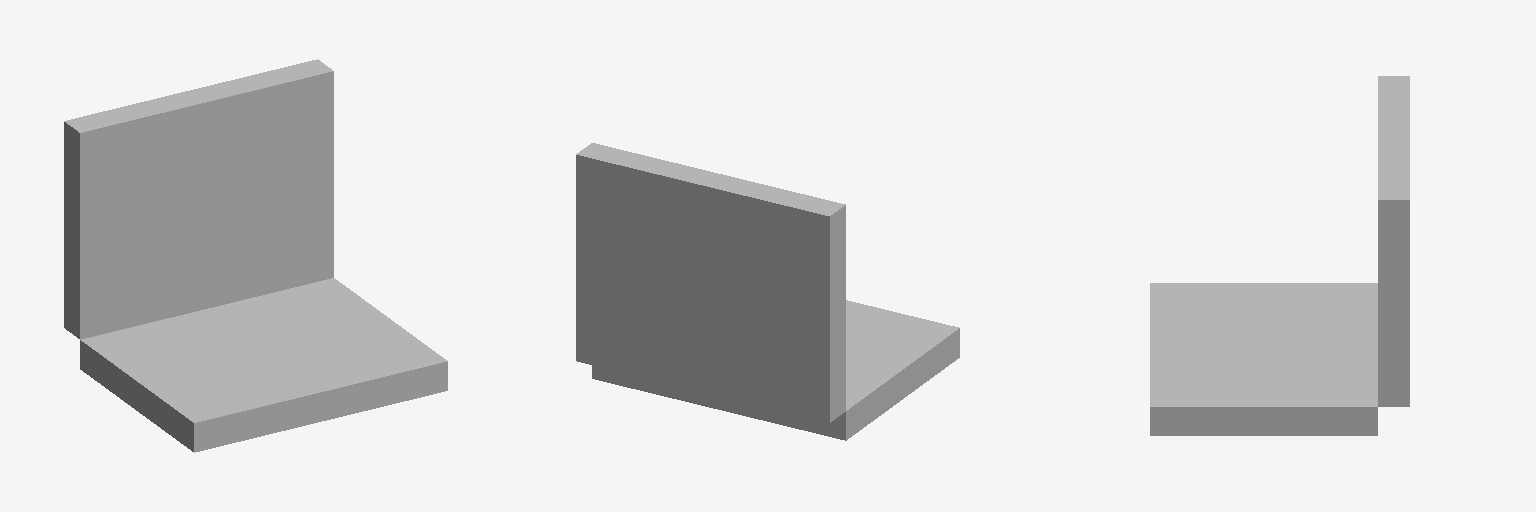
File: laptop.obj
3 views of the same model, side by side, from view 1: azimuth 30°, elevation 25°; view 2: azimuth 150°, elevation 25°; view 3: azimuth 270°, elevation 25° (orthographic).
Visible parts, largest first — view 1: object 1; view 2: object 1; view 3: object 1.
Boxes of the visible parts, x1,y1,x2,y2 form: object 1: [64, 59, 447, 452]; object 1: [576, 143, 959, 440]; object 1: [1150, 76, 1409, 435].
Size of the model in its own units: 1.8 by 1.6 by 1.6.